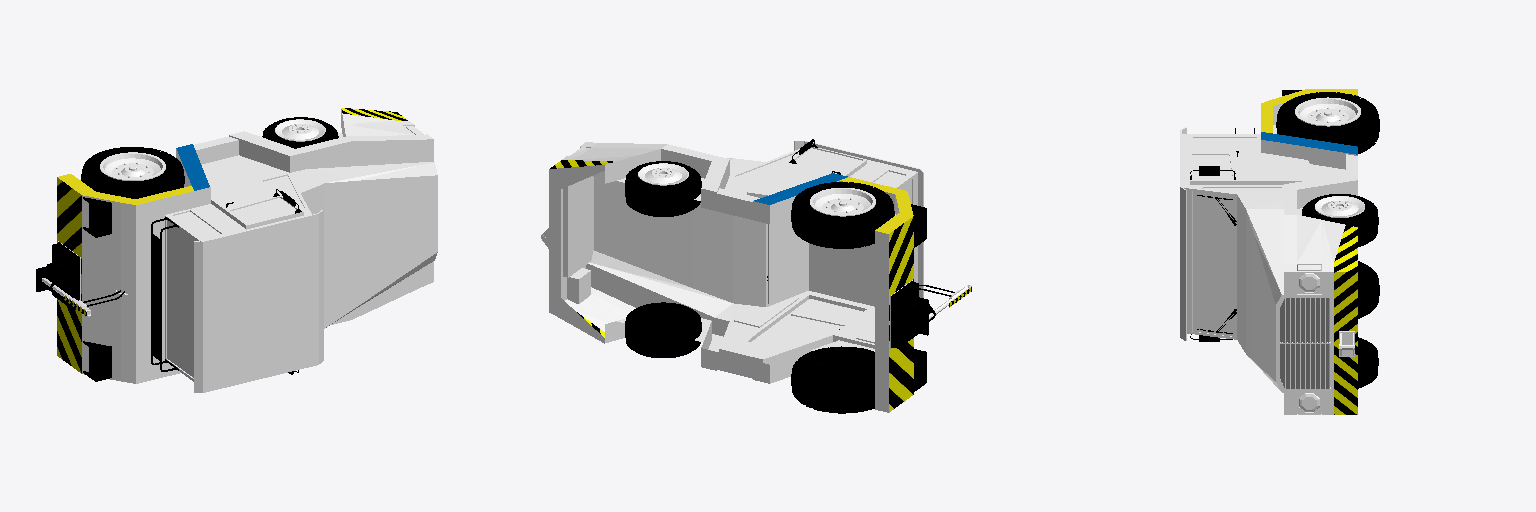
3 views of the same model, side by side, from view 1: azimuth 30°, elevation 25°; view 2: azimuth 150°, elevation 25°; view 3: azimuth 270°, elevation 25° (orthographic).
Parts seen in each view (by area): view 1: Cube; view 2: Cube; view 3: Cube.
Boxes of the visible parts, x1=… form: Cube: x1=36, y1=108, x2=437, y2=392; Cube: x1=541, y1=139, x2=971, y2=413; Cube: x1=1180, y1=89, x2=1379, y2=414.
Bounding box in the file's own units: 4.67 × 2.26 × 2.13.
1 materials, 1 textured.